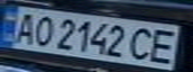1: (72, 18, 93, 53)
2: (51, 16, 78, 52), (106, 21, 130, 59)
4: (87, 19, 112, 56)
A: (6, 10, 42, 45)
C: (124, 25, 160, 62)
E: (145, 26, 184, 65)
O: (27, 14, 57, 47)
